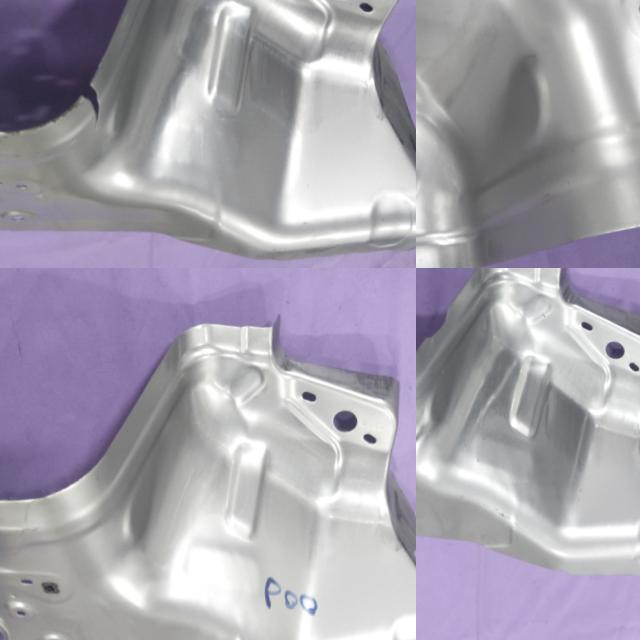Defect: (416, 279, 474, 360), (72, 48, 114, 136)
Healthy: (0, 292, 416, 640), (416, 0, 640, 268)
